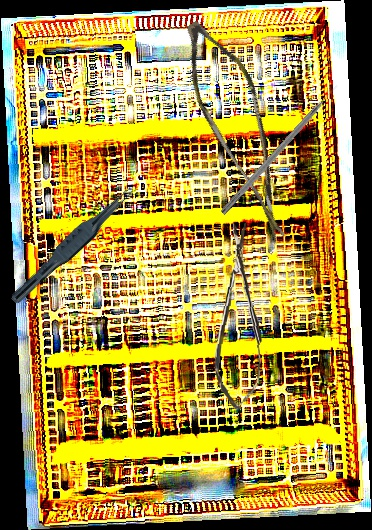Hook Surgical: (220, 83, 341, 217)
Micro Scissor: (149, 12, 336, 247), (212, 221, 268, 411)
Tissue Forceps: (9, 179, 137, 312)
